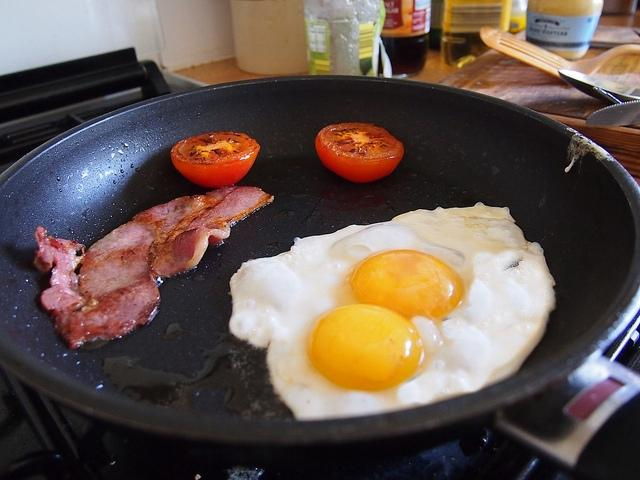tomato: (315, 122, 404, 184), (170, 132, 260, 188)
